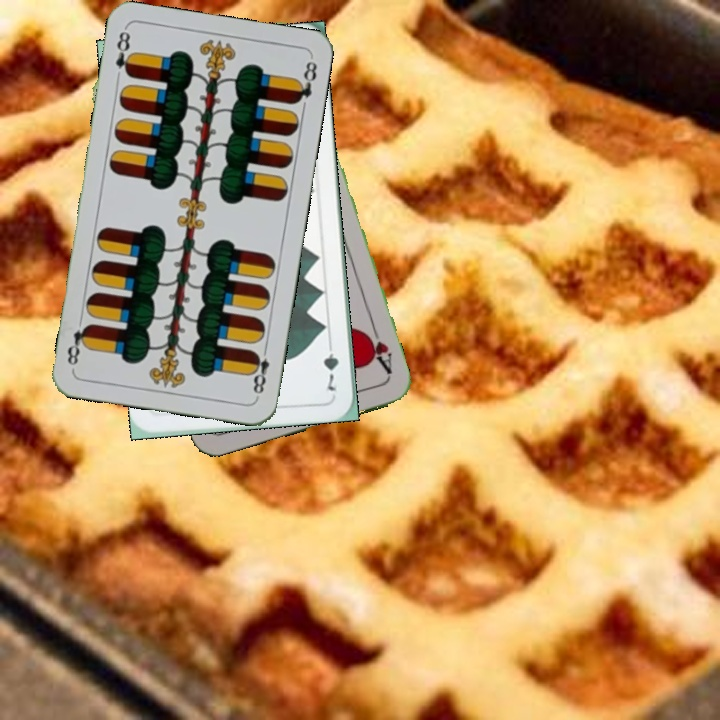E8: (247, 341, 272, 400), (111, 26, 136, 79)
G7: (319, 337, 341, 394)
HA: (361, 321, 395, 377)
